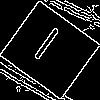I: (24, 25, 63, 71)
